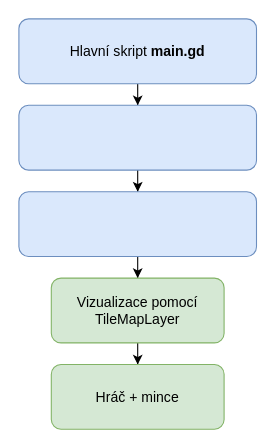
The diagram is 275 pixels wide and 448 high, and some of its shapes have lost their labels. Each missing label, with the centre of its shape:
"2D reprezentace mapy (0 = empty, 1 = floor, 2 = wall)" goes at (137,223).
"Generátor mapy (Rooms / BSP / Cellular / Drunken / Maze)" goes at (137,137).
